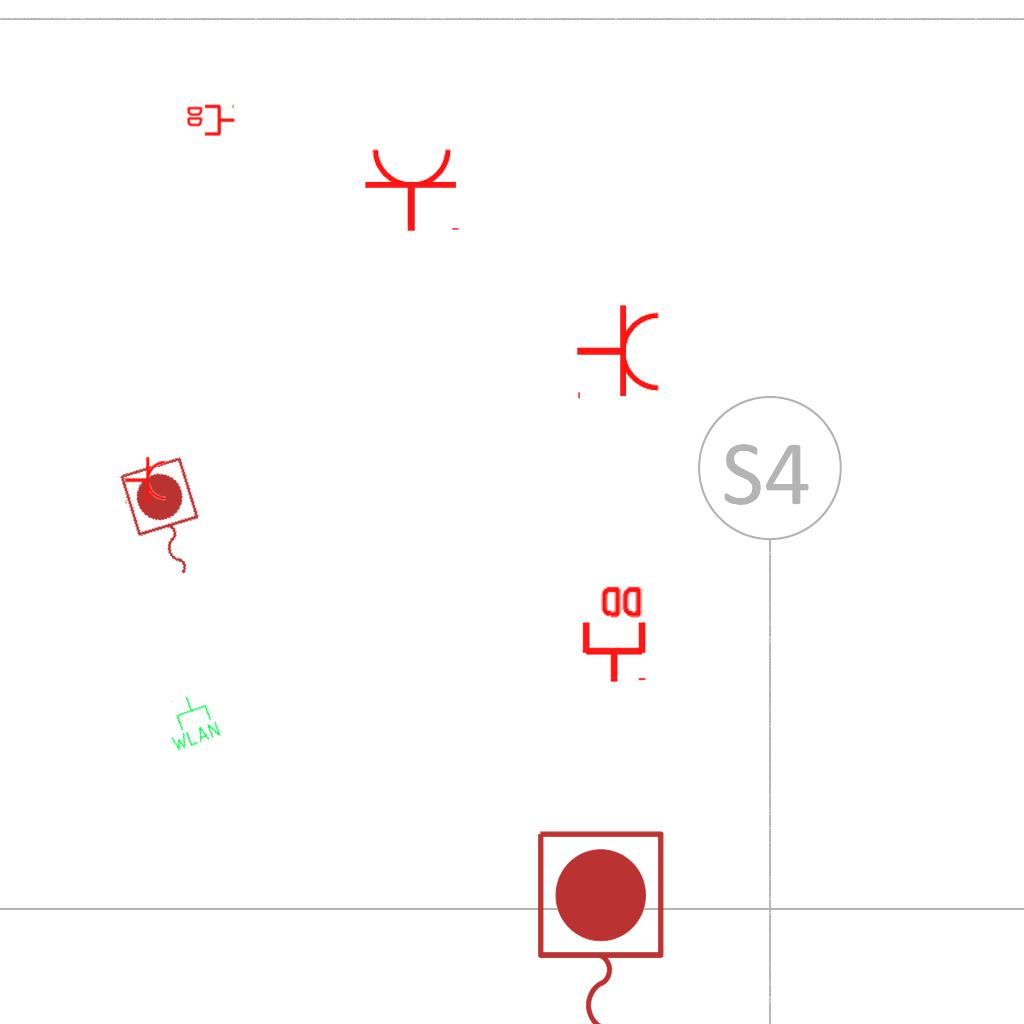Datenanschluss_zweifach: (578, 582, 647, 685), (185, 104, 236, 138)
Schukosteckdose_einfach: (575, 303, 662, 403), (363, 146, 463, 233), (124, 456, 167, 506)
WLAN: (156, 687, 224, 755)
Zugtaster: (527, 823, 671, 1024), (113, 452, 219, 590)
